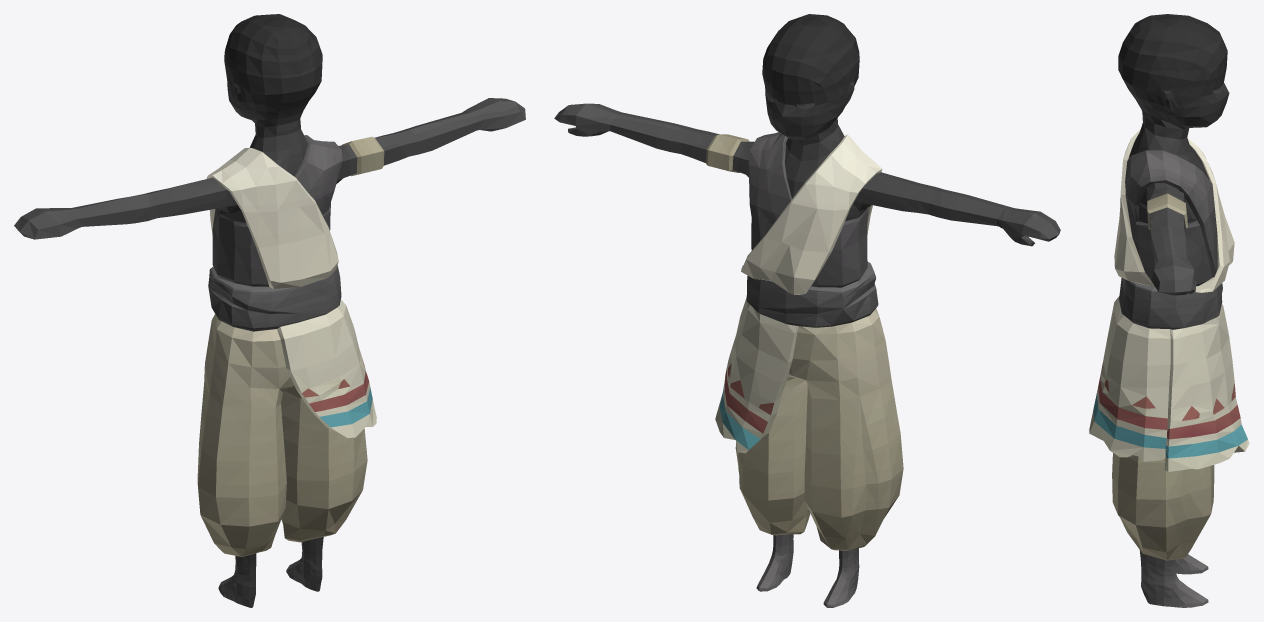
Rendered from CharSkyKid_Body_AP21LinenPants.glb.
3 views of the same model, side by side, from view 1: azimuth 30°, elevation 25°; view 2: azimuth 150°, elevation 25°; view 3: azimuth 270°, elevation 25° (orthographic).
Visible parts, largest first — view 1: CharSkyKid_Body_AP21LinenPants; view 2: CharSkyKid_Body_AP21LinenPants; view 3: CharSkyKid_Body_AP21LinenPants.
Part boxes in pixels (left/top/right/bottom): CharSkyKid_Body_AP21LinenPants: left=14, top=14, right=525, bottom=607; CharSkyKid_Body_AP21LinenPants: left=554, top=14, right=1060, bottom=607; CharSkyKid_Body_AP21LinenPants: left=1089, top=14, right=1249, bottom=607.
Bounding box in the file's own units: 13.83 × 14.94 × 3.82.
1 material, 1 textured.
